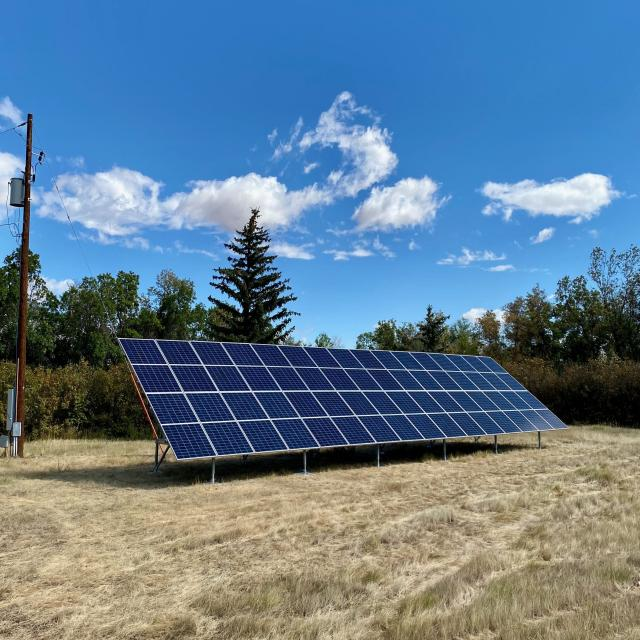clean-solar-panel: (120, 339, 566, 460)
